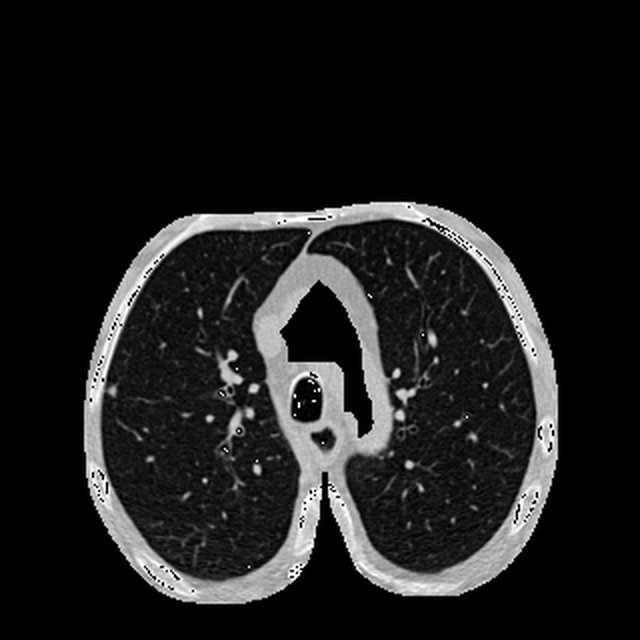PN: (108, 386, 116, 394)
